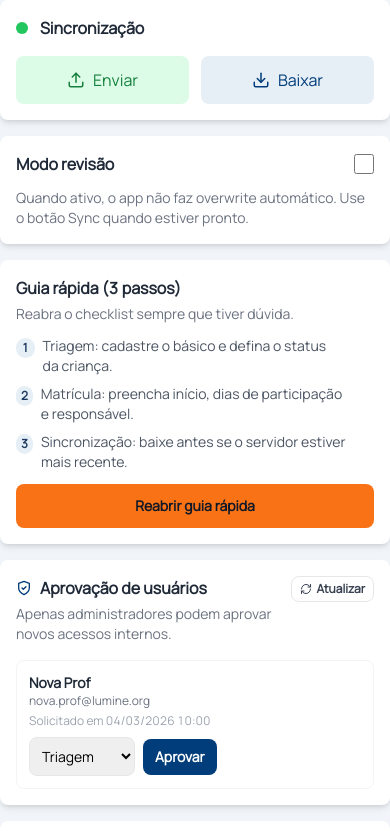
it: ConfigView admin approvals › approves a pending user and removes it from list without refresh
Expected: the text "nova.prof@lumine.org" is shown, [29,692,150,709]
Click the button "Aprovar". click: (180, 756)
box: [143,738,217,774]
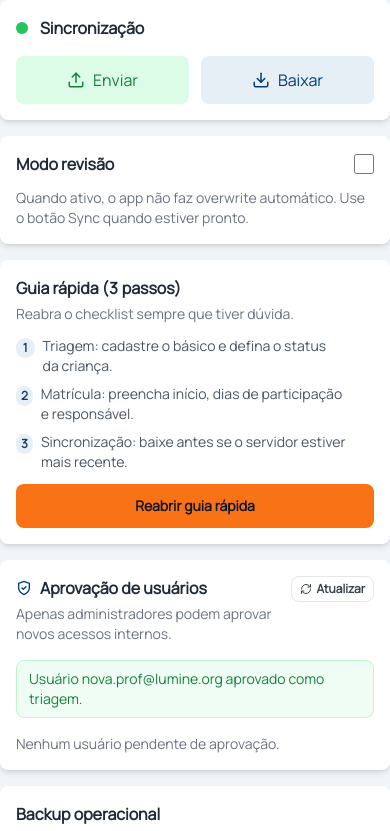
Expected: the text "Usuário nova.prof@lumine.org aprovado como triagem." is shown, [16,660,374,718]
